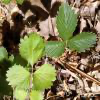Strawberry leaf: (56, 1, 79, 41), (20, 30, 46, 65), (31, 61, 56, 92), (68, 30, 98, 55), (5, 64, 32, 90), (43, 41, 67, 58)
